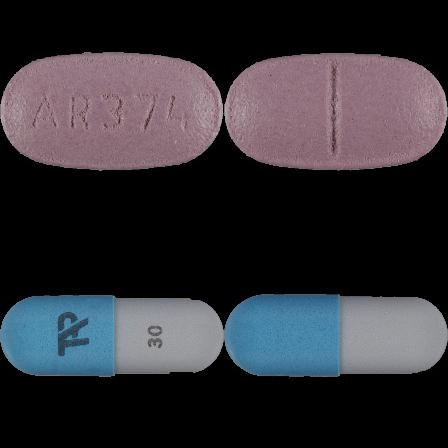64764-119: (0, 0, 224, 224)
